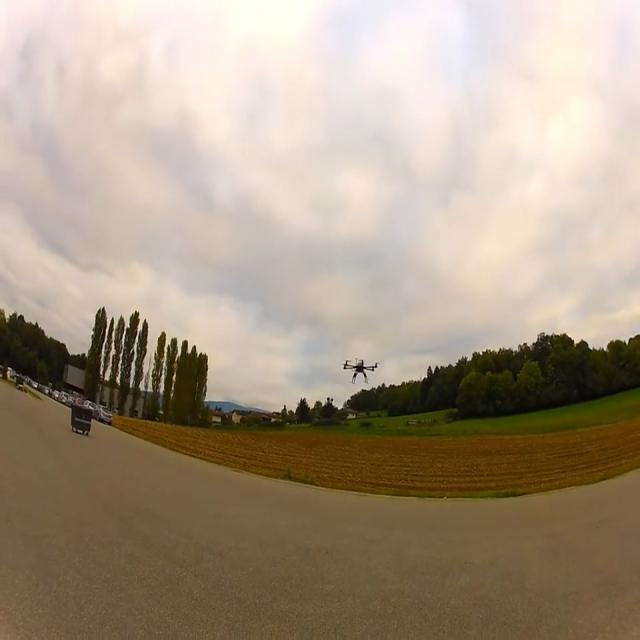drone: (342, 357, 379, 383)
